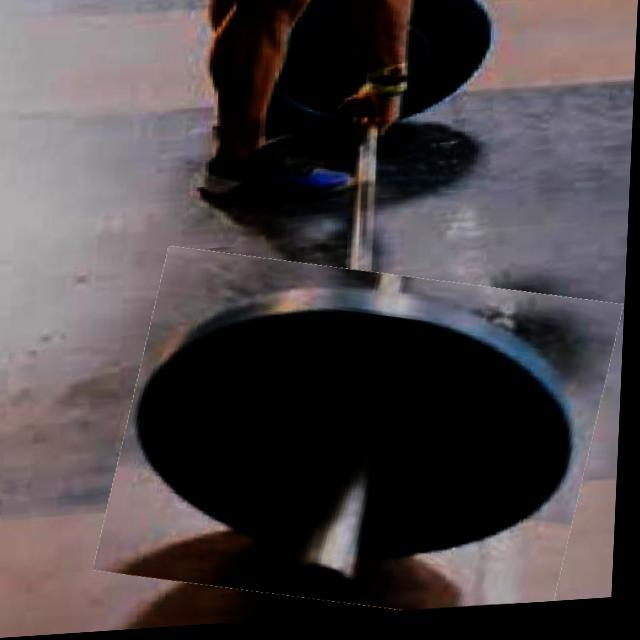barbell: (111, 247, 617, 634)
